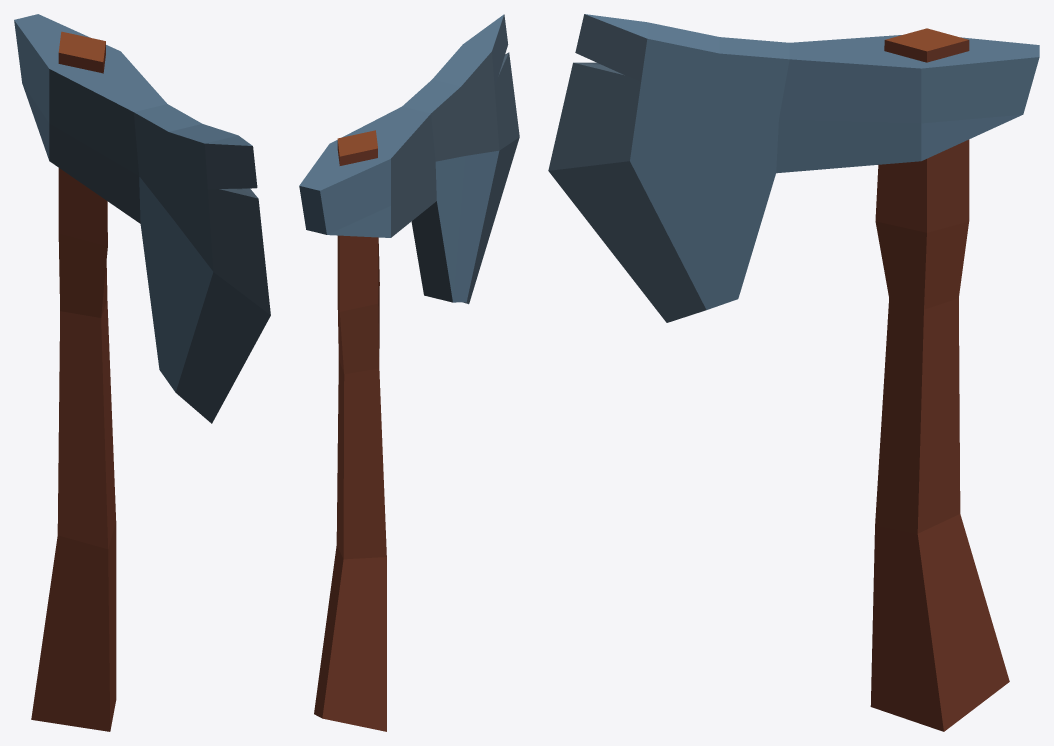
Rendered from SM_Hatchet_A.fbx.
The picture shows the model from 3 angles, left to right: view 1: azimuth 30°, elevation 25°; view 2: azimuth 150°, elevation 25°; view 3: azimuth 270°, elevation 25°; orthographic projection. The views are drawn at different scales.
Parts seen in each view (by area): view 1: SM_Hatchet_A; view 2: SM_Hatchet_A; view 3: SM_Hatchet_A.
Part boxes in pixels (left/top/right/bottom): SM_Hatchet_A: left=14, top=14, right=270, bottom=731; SM_Hatchet_A: left=299, top=14, right=519, bottom=731; SM_Hatchet_A: left=548, top=14, right=1039, bottom=731.
Bounding box in the file's own units: 0.1093 × 0.8515 × 0.5439.
